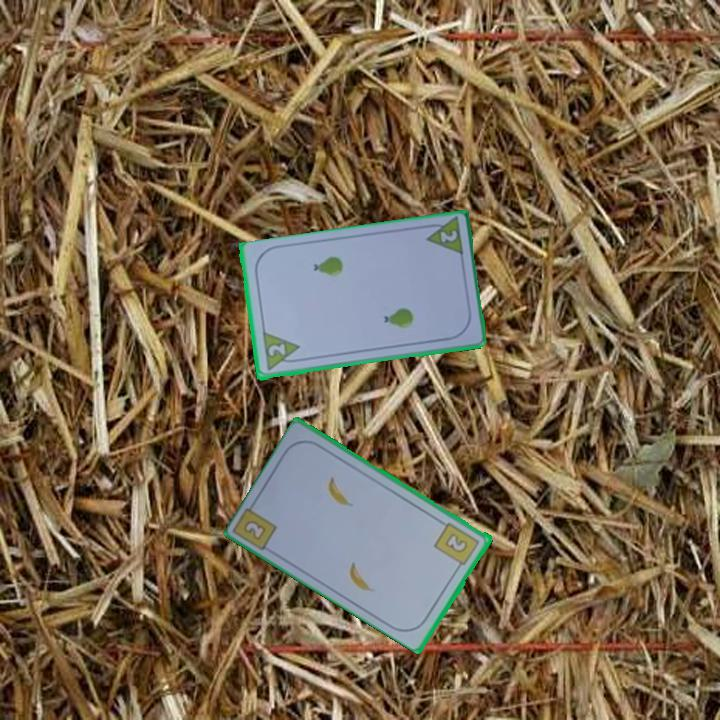2b: (431, 519, 483, 572), (242, 518, 267, 541)
2p: (420, 215, 466, 260), (264, 340, 288, 359)
